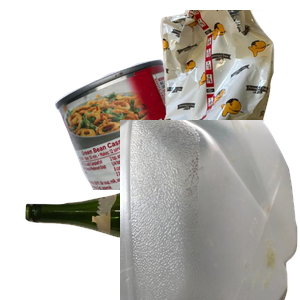glass: (23, 186, 249, 300)
metal: (52, 57, 260, 237)
plastic: (120, 120, 300, 300)
trash: (127, 10, 300, 190)
